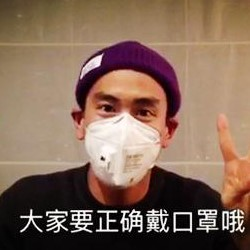mask: (81, 110, 164, 187)
